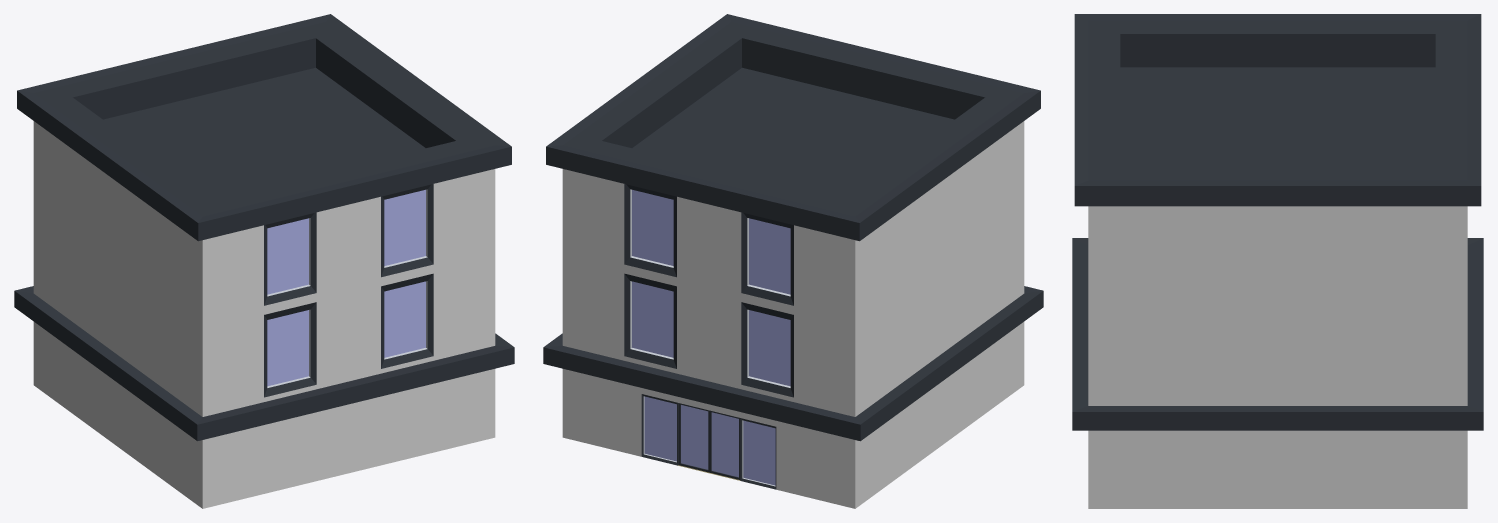
File: building_3.glb
3 views of the same model, side by side, from view 1: azimuth 30°, elevation 25°; view 2: azimuth 150°, elevation 25°; view 3: azimuth 270°, elevation 25° (orthographic). The views are drawn at different scales.
Parts seen in each view (by area): view 1: Cube; view 2: Cube; view 3: Cube.
Part boxes in pixels (<box>): Cube: <box>14,14,514,508</box>; Cube: <box>543,14,1043,508</box>; Cube: <box>1072,14,1483,508</box>.
Size of the model in its own units: 21.69 by 19.14 by 21.69.
Materials: 2 (1 with a texture image).
